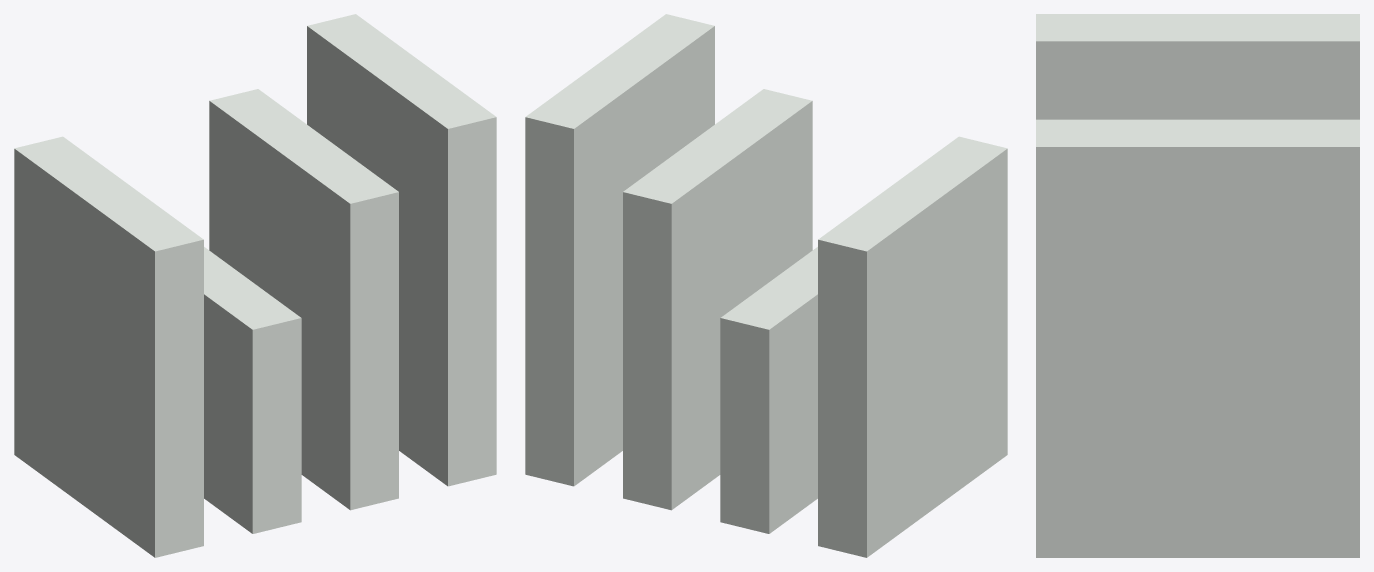
The model's file is books.obj.
3 views of the same model, side by side, from view 1: azimuth 30°, elevation 25°; view 2: azimuth 150°, elevation 25°; view 3: azimuth 270°, elevation 25° (orthographic). The views are drawn at different scales.
Size of the model in its own units: 0.7 by 0.7 by 0.5.
Materials: 1 (1 with a texture image).
